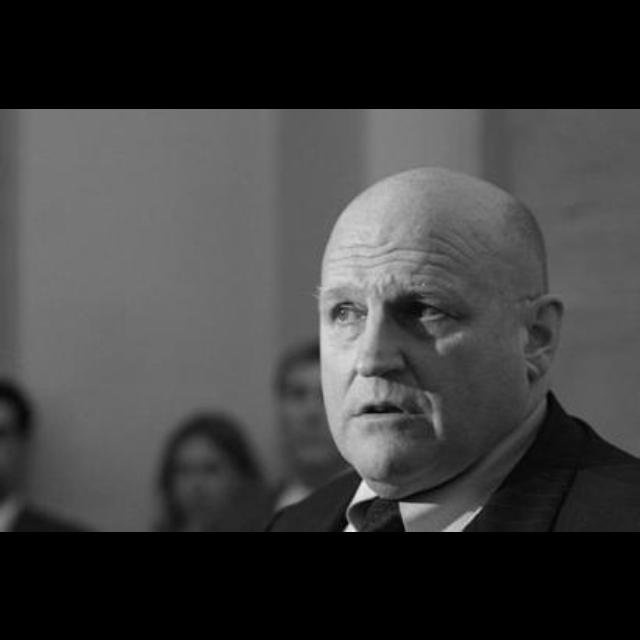face: (296, 201, 538, 489)
